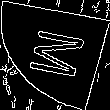M_E: (19, 27, 91, 83)
